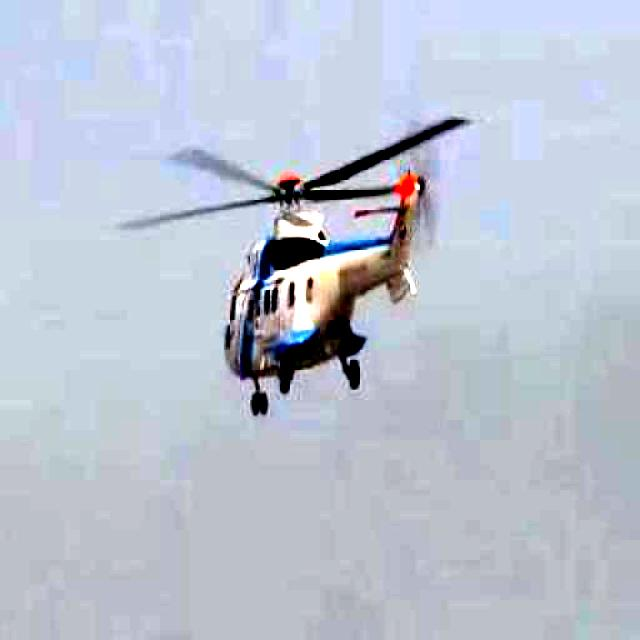drone: (98, 94, 511, 426)
